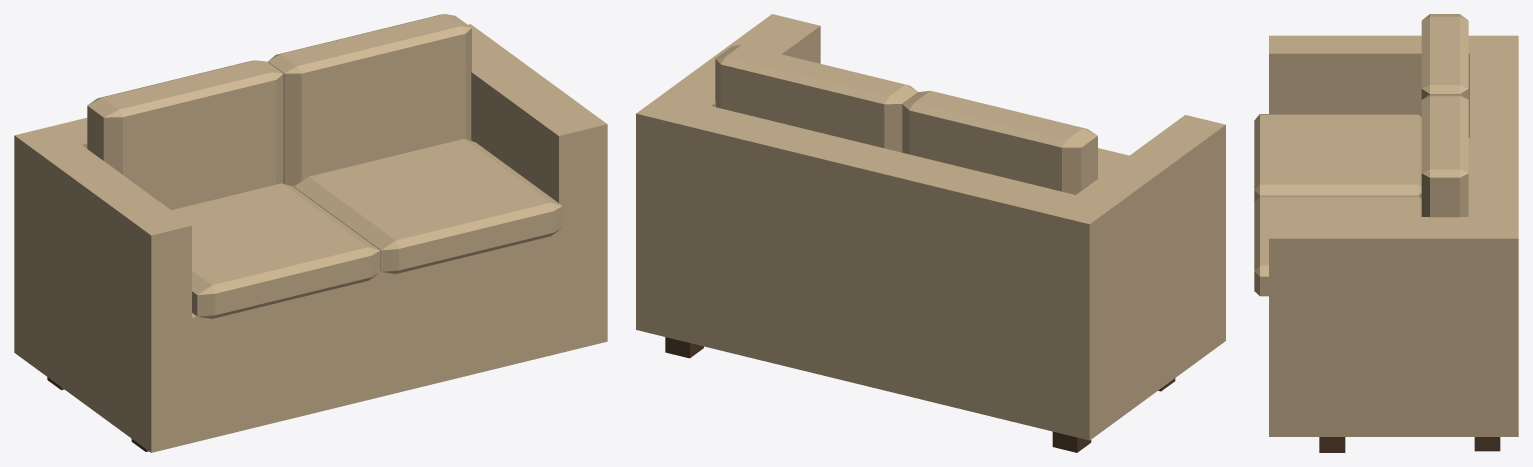
Rendered from Couch_2A.fbx.
The picture shows the model from 3 angles, left to right: view 1: azimuth 30°, elevation 25°; view 2: azimuth 150°, elevation 25°; view 3: azimuth 270°, elevation 25°; orthographic projection. The views are drawn at different scales.
Visible parts, largest first — view 1: polySurface2342; view 2: polySurface2342; view 3: polySurface2342.
Boxes of the visible parts, x1=… form: polySurface2342: x1=14, y1=14, x2=607, y2=452; polySurface2342: x1=636, y1=14, x2=1225, y2=452; polySurface2342: x1=1254, y1=14, x2=1518, y2=452.
Size of the model in its own units: 1.85 by 1.13 by 1.02.
Materials: 1 (1 with a texture image).
